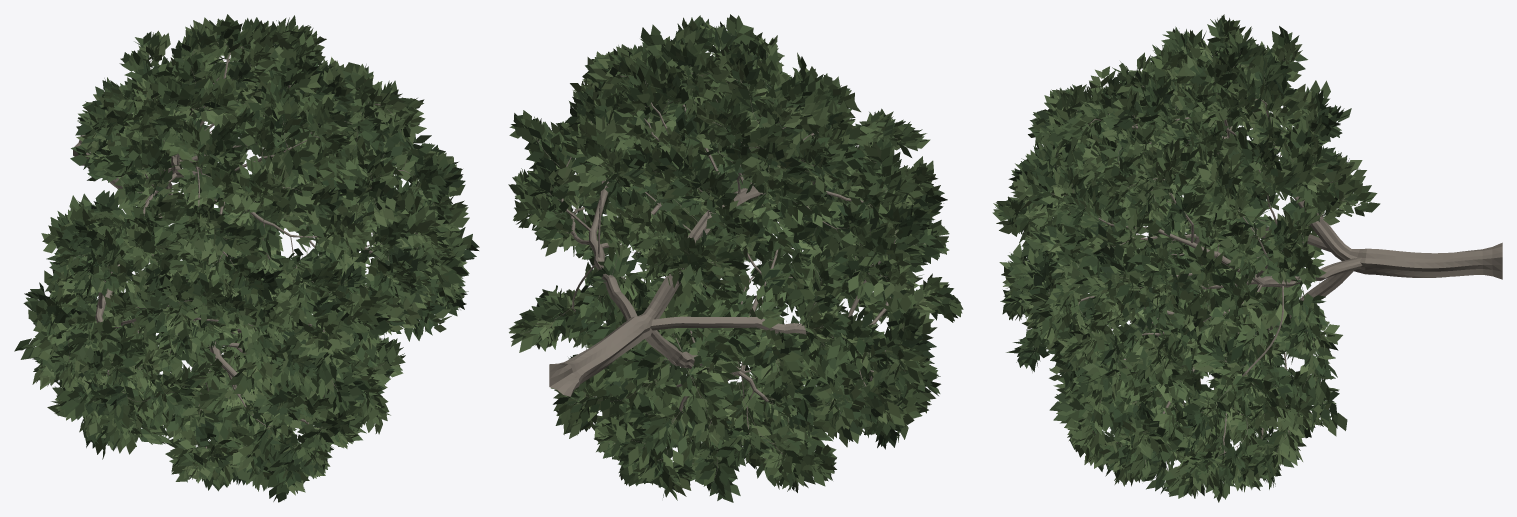
File: tree_near_02.obj
The picture shows the model from 3 angles, left to right: view 1: azimuth 30°, elevation 25°; view 2: azimuth 150°, elevation 25°; view 3: azimuth 270°, elevation 25°; orthographic projection. The views are drawn at different scales.
Parts seen in each view (by area): view 1: tree_near_02; view 2: tree_near_02; view 3: tree_near_02.
Boxes of the visible parts, bbox=[...] form: tree_near_02: bbox=[14, 14, 479, 502]; tree_near_02: bbox=[508, 14, 963, 502]; tree_near_02: bbox=[992, 14, 1502, 502].
Bounding box in the file's own units: 0.9491 × 0.9797 × 0.997.
Materials: 1 (1 with a texture image).
